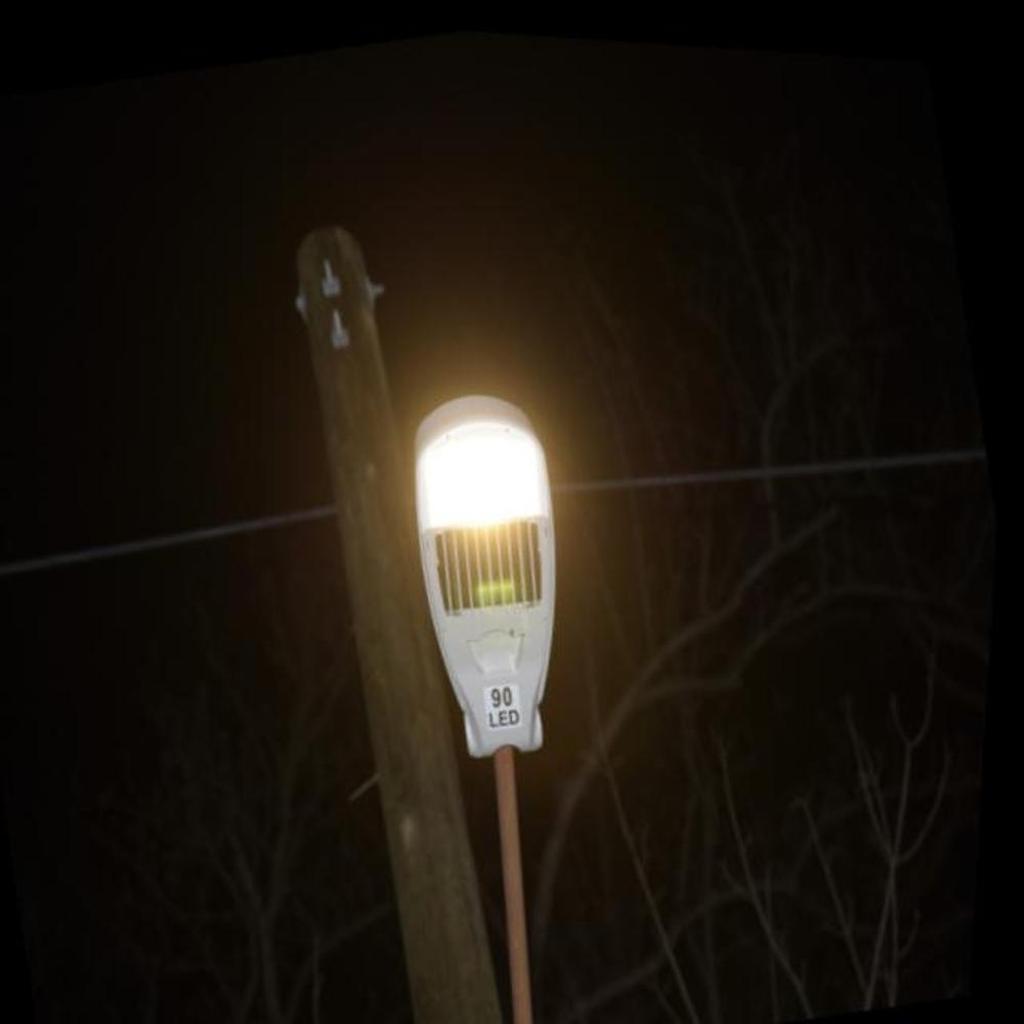shelf: (377, 372, 660, 959)
